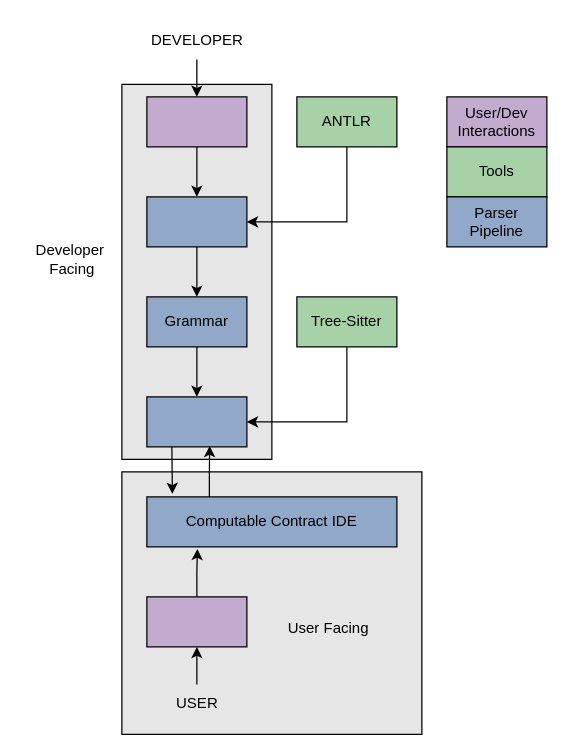
Image size: 569x756. Some labels were removed from this diagram. Each missing label, with the centre of its shape:
BNF: point (196, 121)
BNF-Parser: point (196, 221)
Contract: point (196, 621)
Grammar-Parser: point (196, 421)
